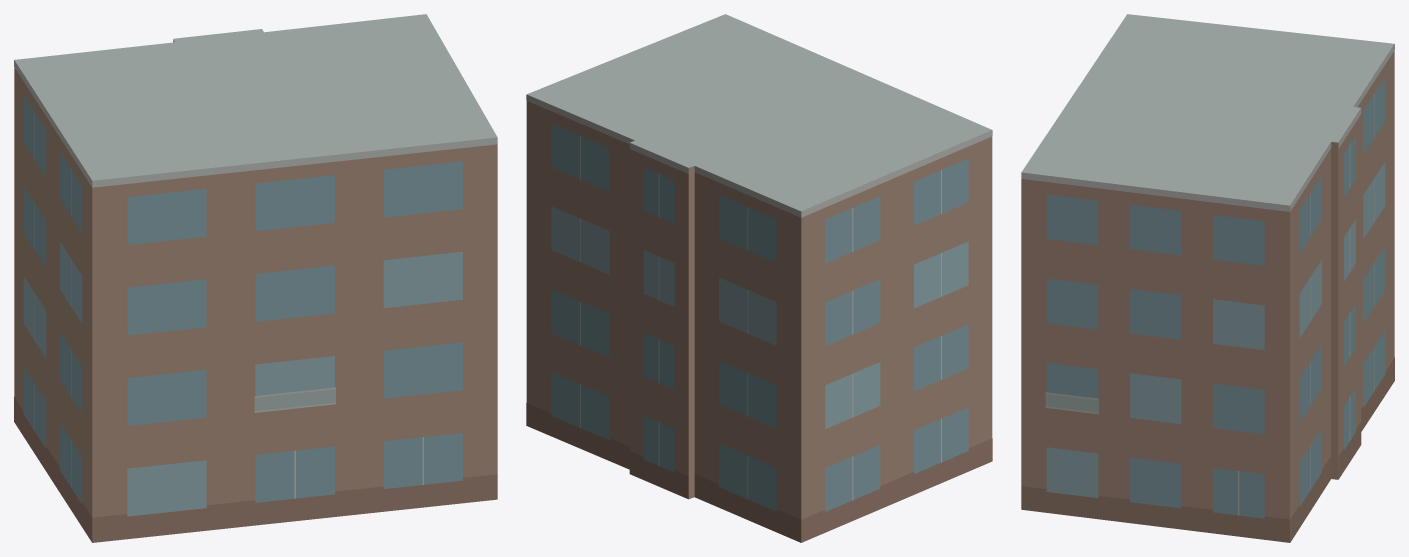
The model's file is survey-upis-32759079.glb.
3 views of the same model, side by side, from view 1: azimuth 30°, elevation 25°; view 2: azimuth 150°, elevation 25°; view 3: azimuth 270°, elevation 25° (orthographic). The views are drawn at different scales.
Visible parts, largest first — view 1: survey-upis-32759079.tmp; view 2: survey-upis-32759079.tmp; view 3: survey-upis-32759079.tmp.
Part boxes in pixels (box(x1,y1,x2,y2)): survey-upis-32759079.tmp: box(14, 14, 497, 542); survey-upis-32759079.tmp: box(526, 14, 992, 542); survey-upis-32759079.tmp: box(1021, 14, 1394, 542).
Bounding box in the file's own units: 15.73 × 12.9 × 12.96.
